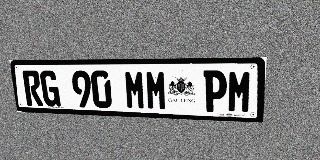0: (90, 70, 112, 108)
9: (71, 70, 93, 108)
G: (39, 70, 61, 107)
M: (227, 70, 253, 113), (124, 70, 146, 110), (145, 70, 167, 110)
P: (203, 70, 227, 112)
R: (22, 70, 43, 106)
